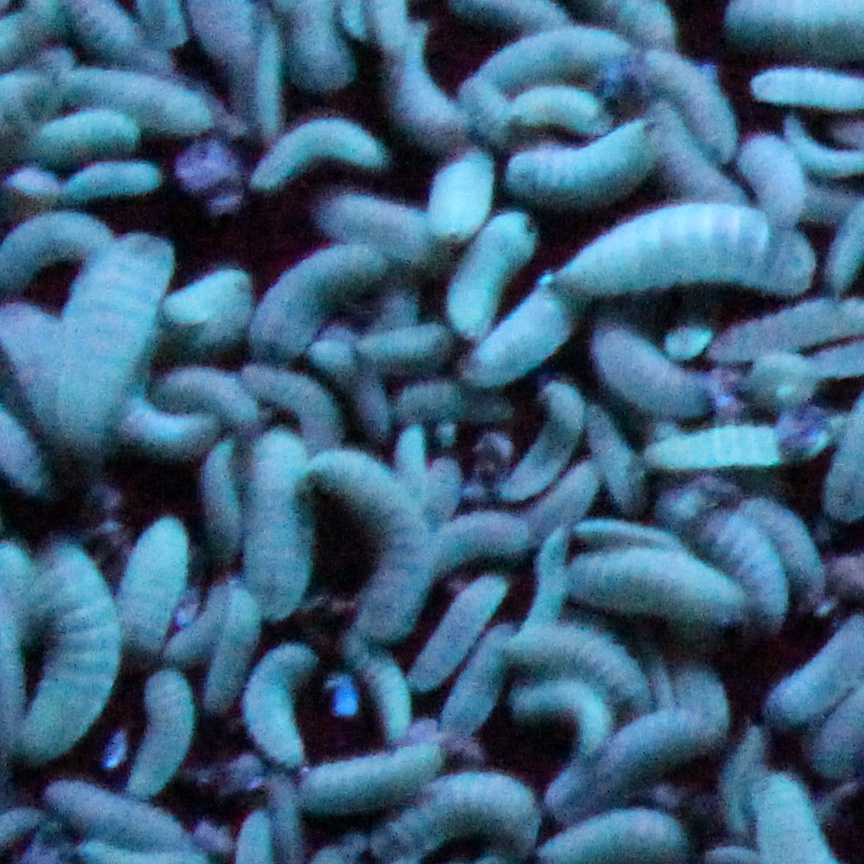larve: (50, 242, 171, 452), (565, 210, 820, 297), (316, 460, 423, 638), (25, 544, 113, 751), (553, 707, 717, 808), (251, 242, 385, 356), (554, 548, 743, 623), (461, 25, 643, 95), (441, 212, 533, 350), (506, 124, 663, 204), (643, 107, 749, 218), (248, 433, 311, 616), (456, 283, 570, 383), (722, 496, 825, 602), (379, 777, 530, 849), (586, 330, 724, 408), (254, 114, 385, 194), (243, 341, 340, 449), (639, 52, 734, 162), (511, 635, 649, 708), (411, 584, 506, 690), (313, 181, 440, 260), (120, 523, 192, 660), (67, 65, 213, 131), (696, 507, 780, 619), (1, 205, 122, 281), (302, 755, 446, 811), (50, 781, 181, 842), (127, 681, 191, 802), (422, 509, 532, 576), (249, 649, 314, 759), (511, 684, 612, 753), (23, 114, 139, 170), (345, 629, 408, 732), (640, 435, 836, 468), (450, 630, 512, 733), (502, 83, 615, 139), (209, 588, 262, 703), (508, 402, 573, 492), (575, 408, 637, 502), (743, 136, 805, 225), (56, 160, 168, 207), (201, 439, 241, 553), (356, 319, 458, 363), (537, 460, 593, 540), (394, 386, 519, 421), (574, 522, 685, 551), (533, 530, 565, 624)
